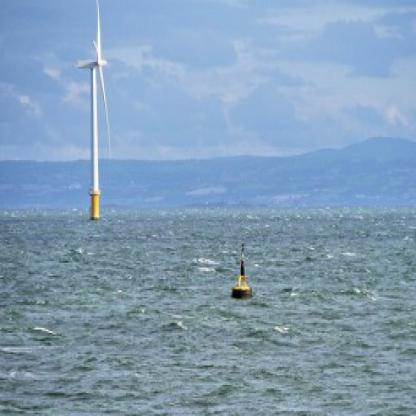buoy: (224, 235, 254, 302)
